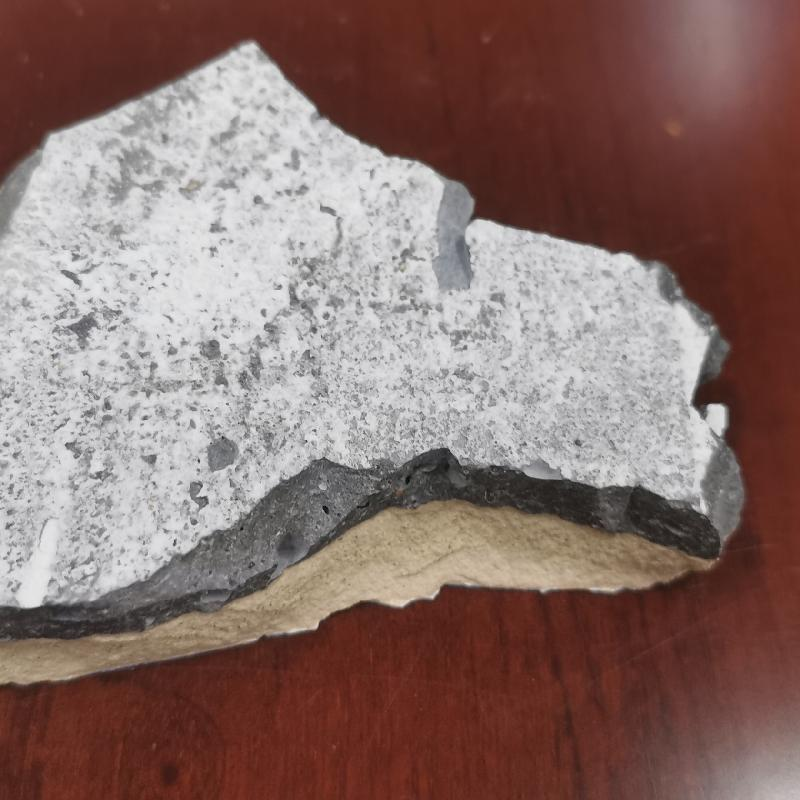tile: (4, 36, 747, 693)
